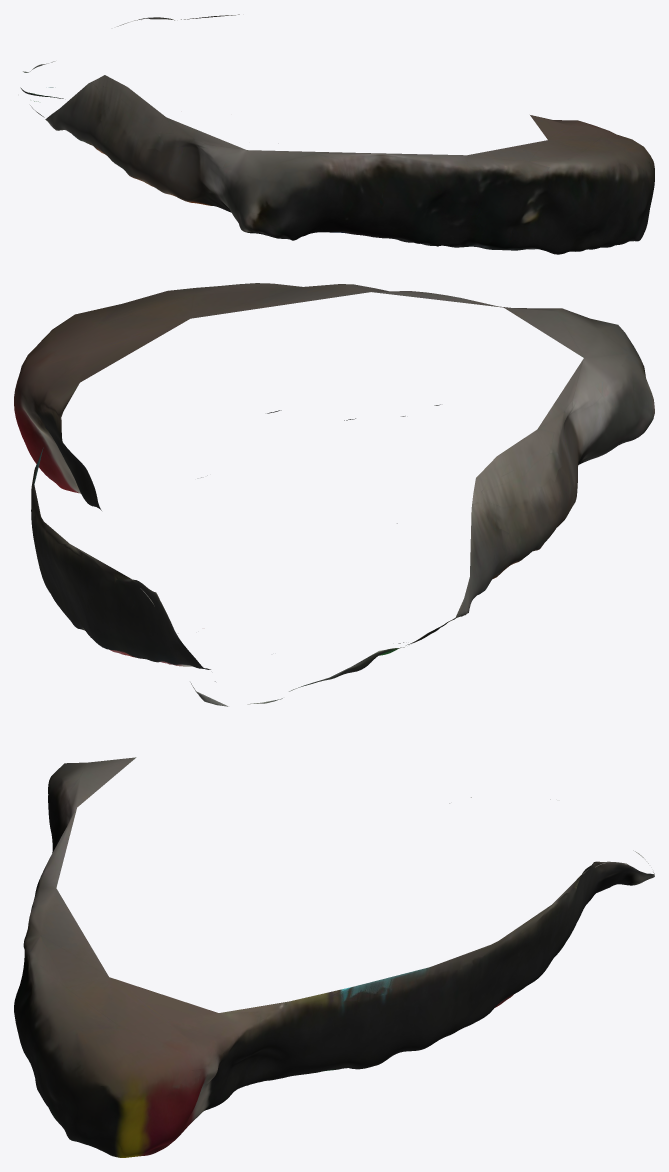
The picture shows the model from 3 angles, top to bottom: view 1: azimuth 30°, elevation 25°; view 2: azimuth 150°, elevation 25°; view 3: azimuth 270°, elevation 25°; orthographic projection. The views are drawn at different scales.
Size of the model in its own units: 0.6497 by 0.2425 by 0.6995.
1 material, 1 textured.
